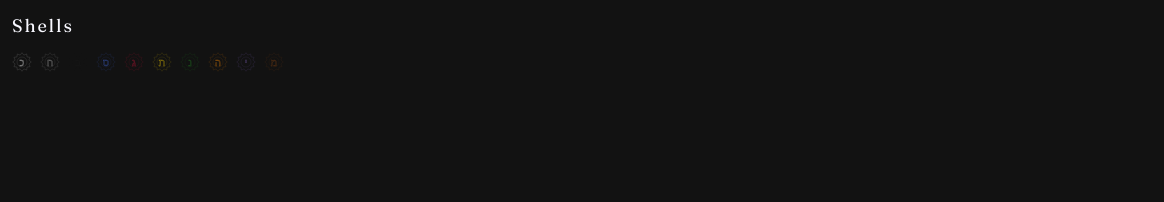
Test: ShellStrip › compact strip — expand / collapse › clicking the expand button opens the detail panel
The image size is (1164, 202).
Click the button named "fragmentation". click: (22,62)
box: [12,52,32,72]
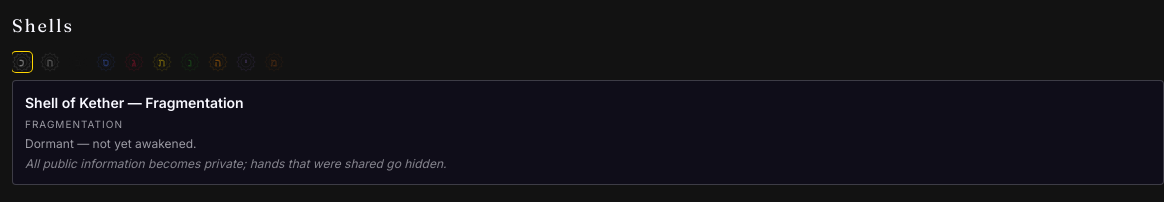
Expected: the button named "fragmentation" is expanded, [12,52,32,72]
Expected: the element named "Shell of Kether — Fragmentation" is shown, [12,80,1163,185]
